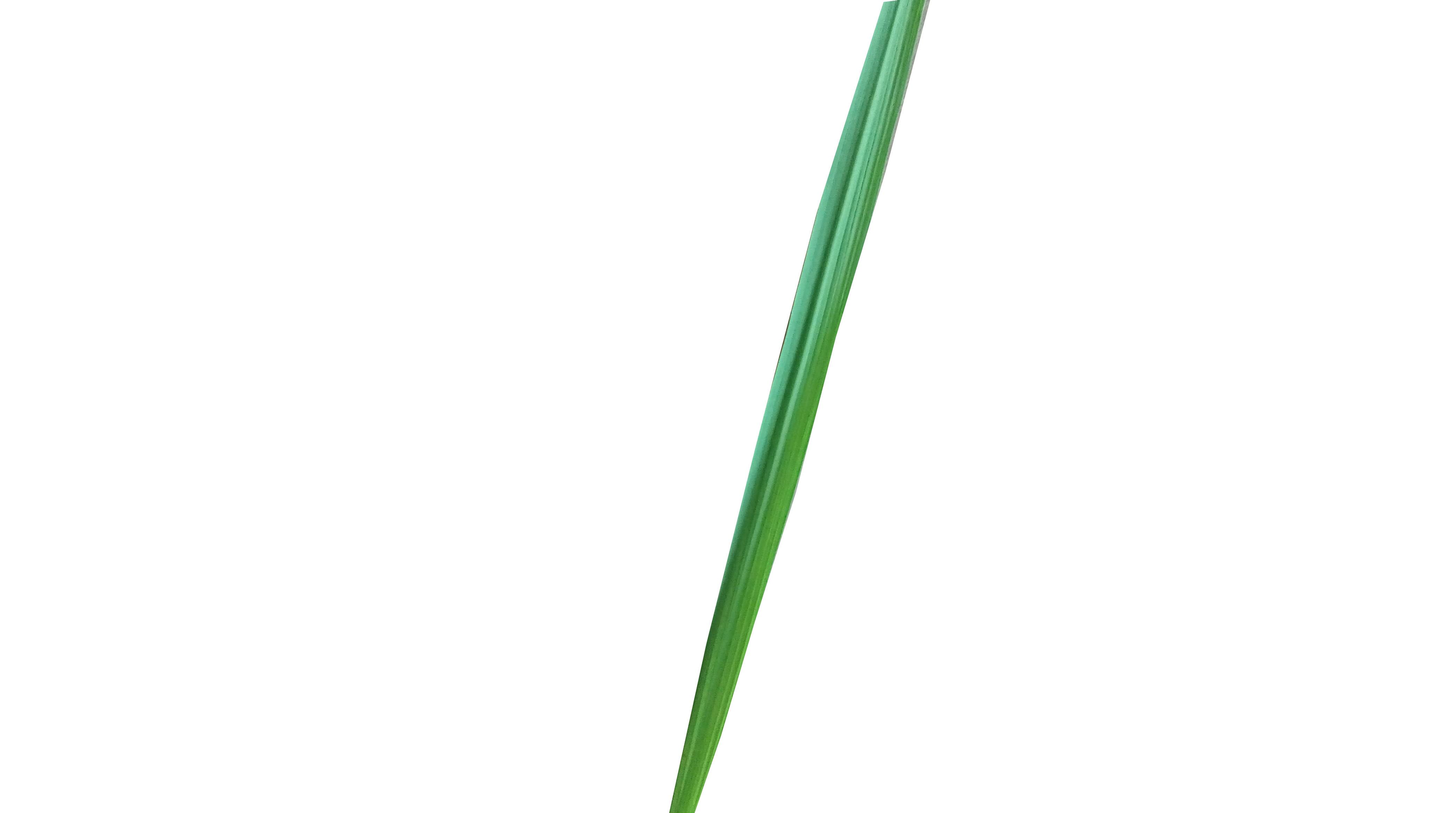Healthy: (668, 0, 936, 813)
